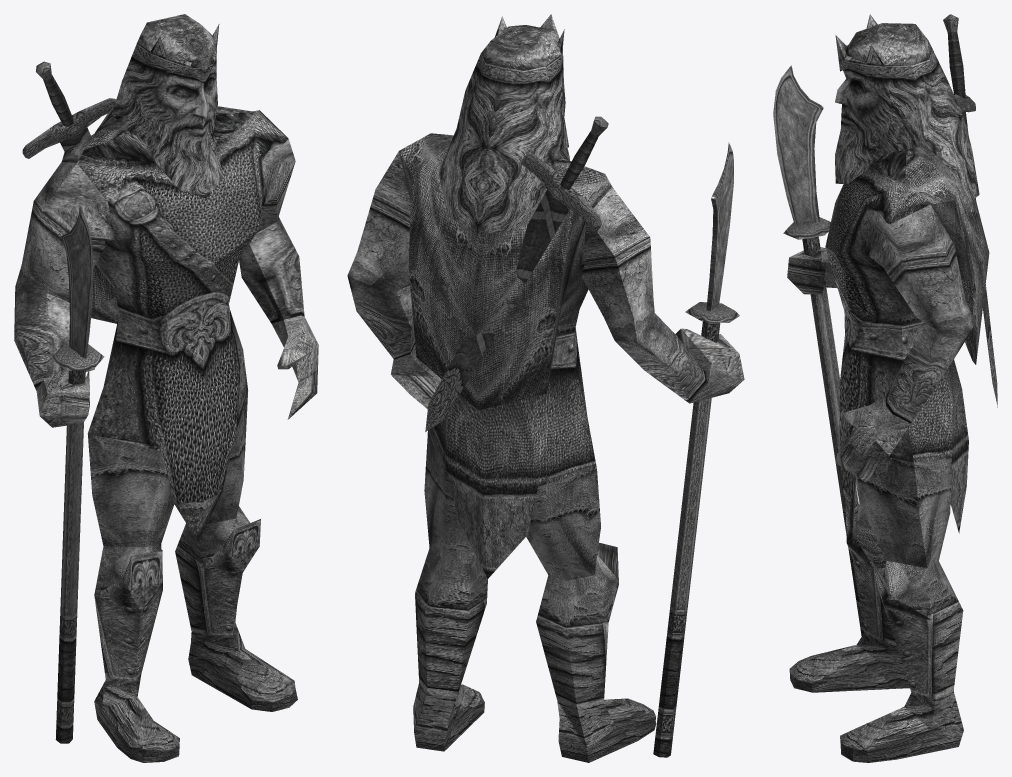
File: mm9_deco_krohnstatue.glb
3 renders of one model, left to right at view 1: azimuth 30°, elevation 25°; view 2: azimuth 150°, elevation 25°; view 3: azimuth 270°, elevation 25°, orthographic. The views are drawn at different scales.
Visible parts, largest first — view 1: Krohnstatue; view 2: Krohnstatue; view 3: Krohnstatue.
Part boxes in pixels (x1,y1,x2,y2): Krohnstatue: (14, 14, 318, 762); Krohnstatue: (347, 14, 744, 762); Krohnstatue: (773, 14, 997, 762).
Bounding box in the file's own units: 1.63 × 3.4 × 1.01.
Materials: 5 (5 with a texture image).
